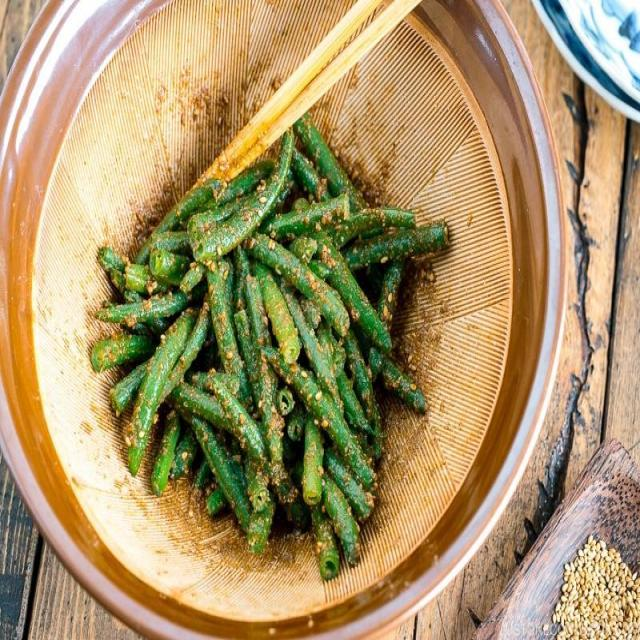Beans: (99, 102, 454, 576)
